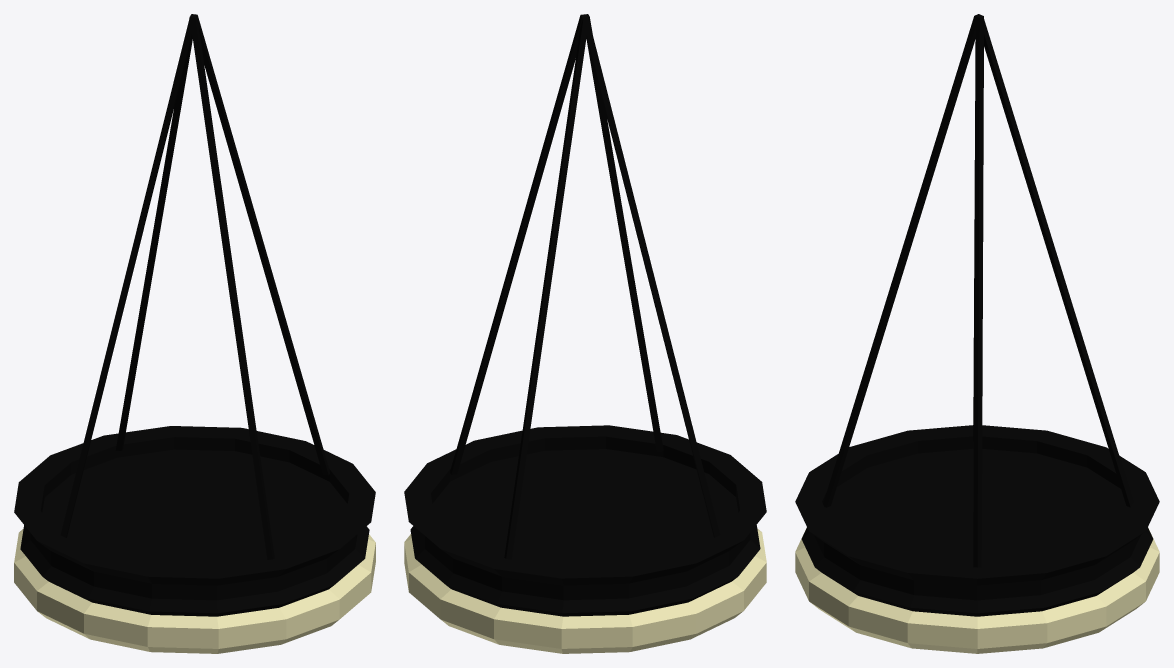
Rendered from lampe.fbx.
The picture shows the model from 3 angles, left to right: view 1: azimuth 30°, elevation 25°; view 2: azimuth 150°, elevation 25°; view 3: azimuth 270°, elevation 25°; orthographic projection.
Parts seen in each view (by area): view 1: Cylinder; view 2: Cylinder; view 3: Cylinder.
Part boxes in pixels (x1=…): Cylinder: x1=14, y1=14, x2=375, y2=653; Cylinder: x1=404, y1=14, x2=766, y2=653; Cylinder: x1=795, y1=14, x2=1159, y2=653.
Bounding box in the file's own units: 200 × 342 × 200.
